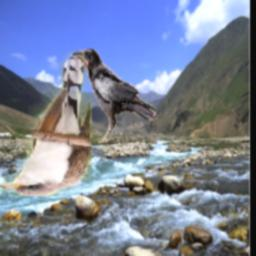Crow: (68, 45, 156, 144)
Cuckoo: (0, 52, 93, 197)
